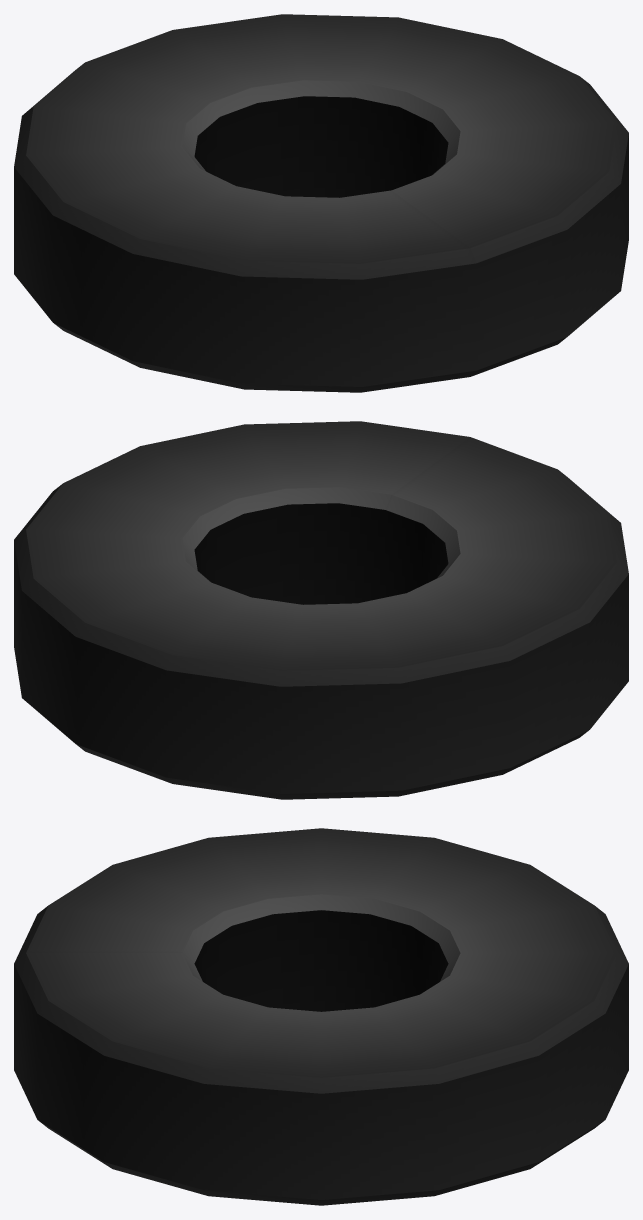
Rendered from Sampah2.fbx.
The picture shows the model from 3 angles, top to bottom: view 1: azimuth 30°, elevation 25°; view 2: azimuth 150°, elevation 25°; view 3: azimuth 270°, elevation 25°; orthographic projection.
Visible parts, largest first — view 1: Cylinder; view 2: Cylinder; view 3: Cylinder.
Boxes of the visible parts, x1,y1,x2,y2 form: Cylinder: [14, 14, 628, 392]; Cylinder: [14, 421, 628, 799]; Cylinder: [14, 828, 628, 1205].
Bounding box in the file's own units: 49.55 × 11.35 × 49.55.
